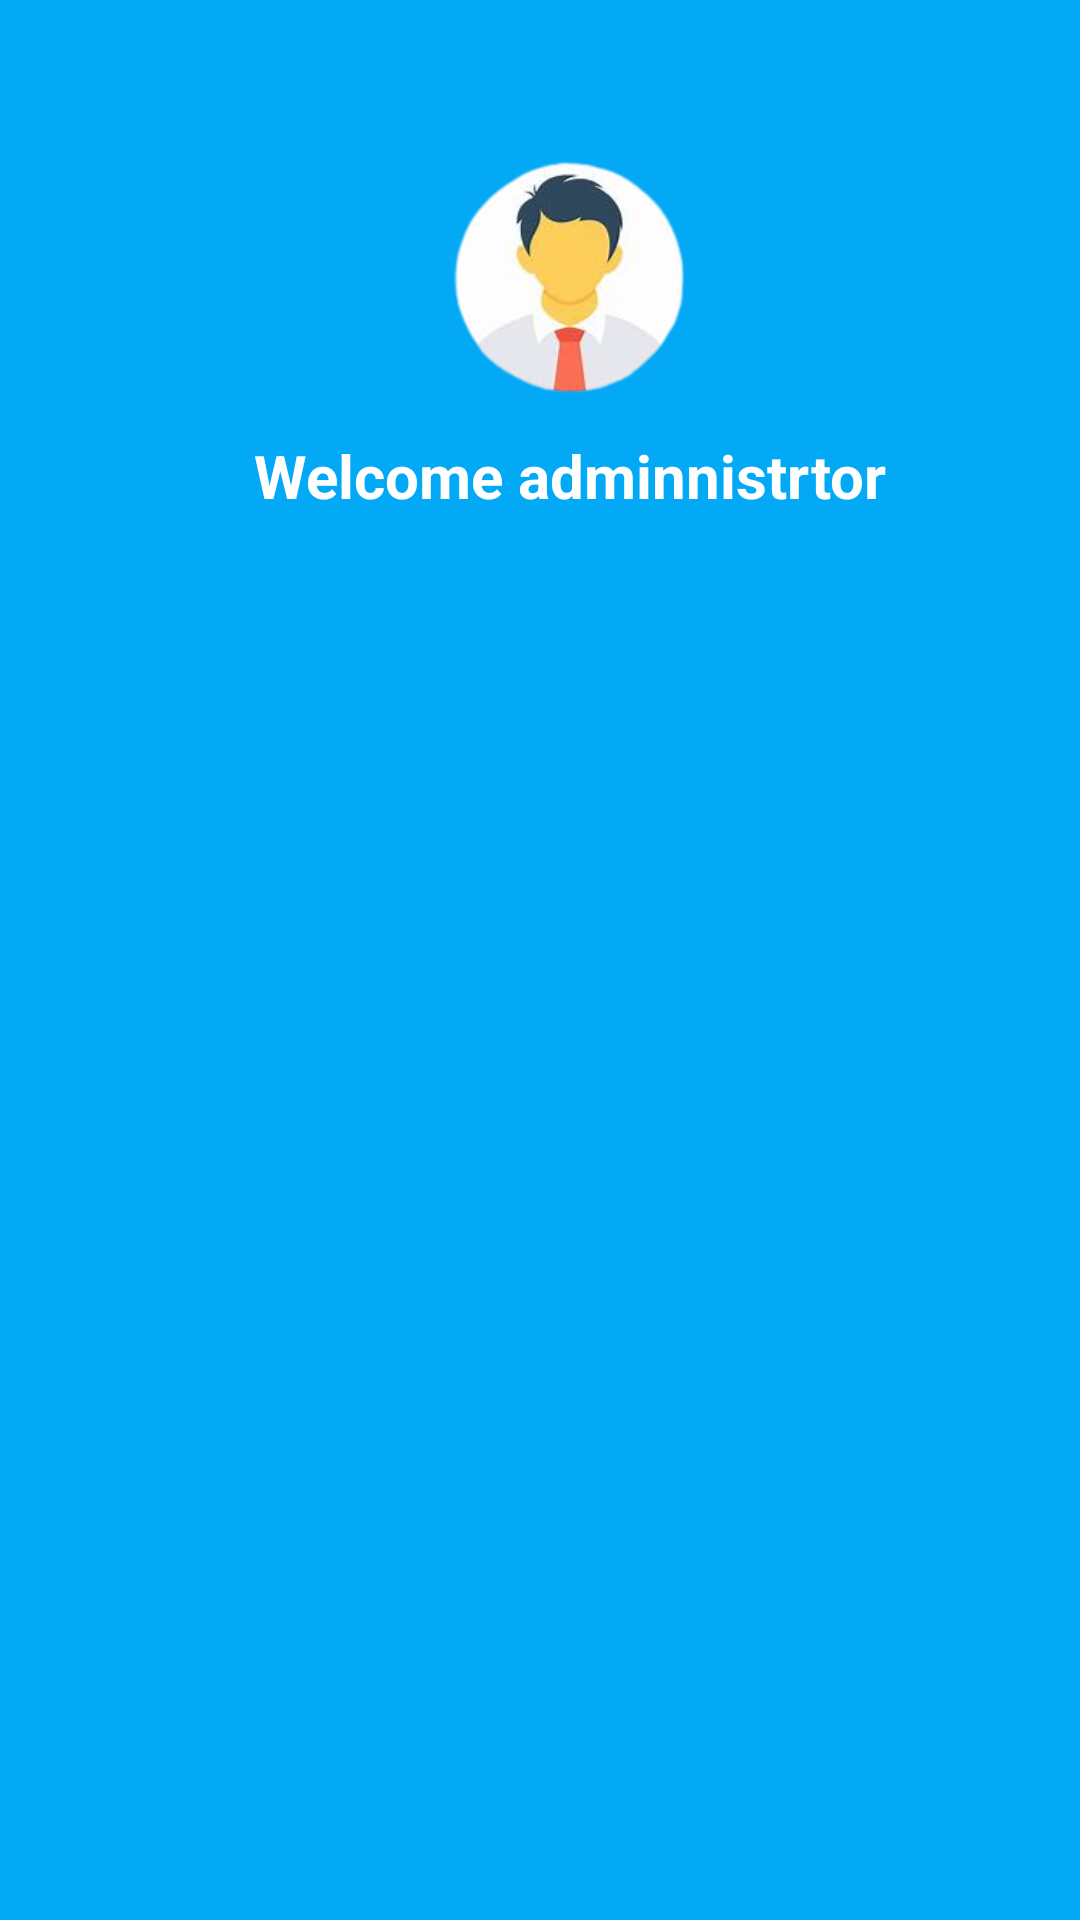

Named icons in this screenshot (1080px×1920px) and their bounding boxes, (x1, y1, x2, y2):
person: (454, 162, 684, 393)
